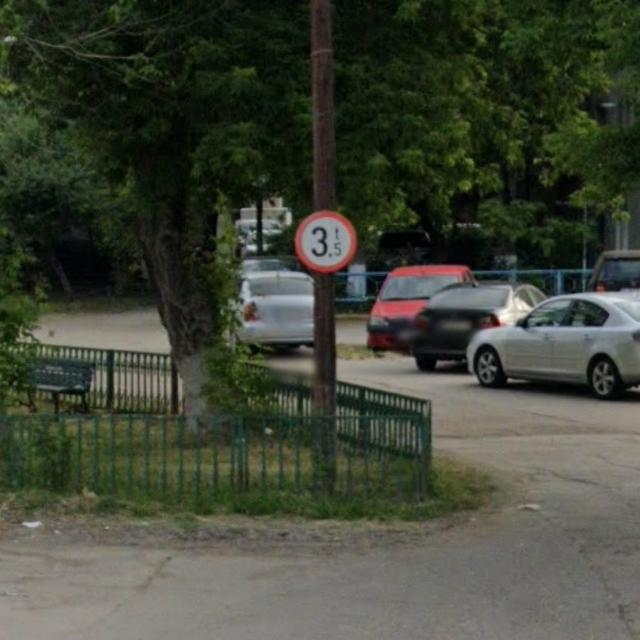forb_weight_over_3.5t: (293, 211, 358, 272)
